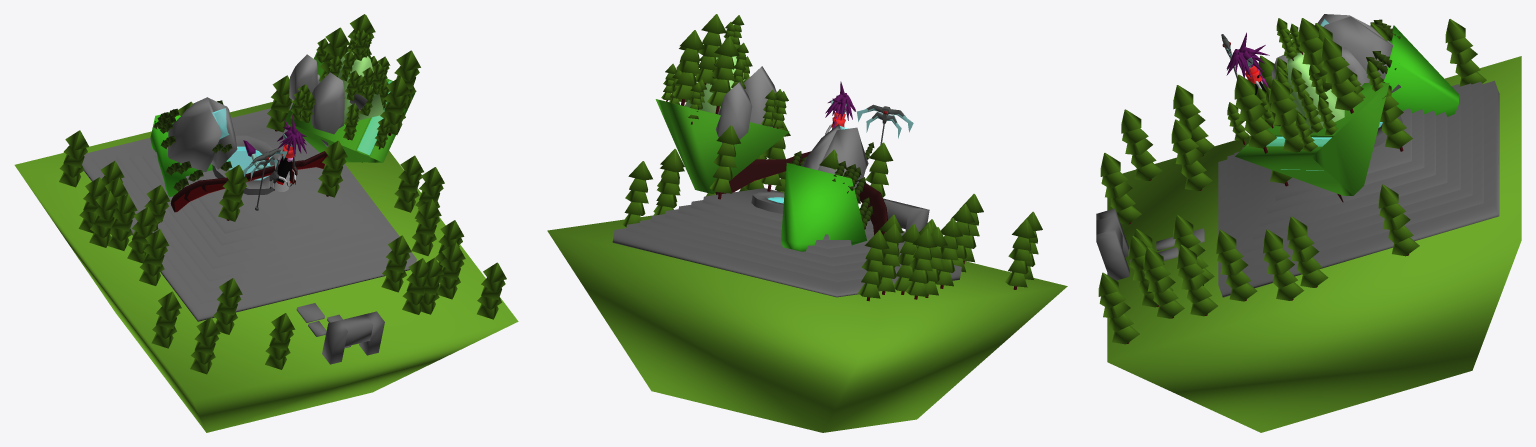
File: nazvhi-title-background.fbx
3 renders of one model, left to right at view 1: azimuth 30°, elevation 25°; view 2: azimuth 150°, elevation 25°; view 3: azimuth 270°, elevation 25°, orthographic. The views are drawn at different scales.
Parts seen in each view (by area): view 1: mesh341, mesh354, mesh347, mesh351, mesh349, mesh348, mesh350, mesh352, mesh12, mesh139, mesh353, mesh342 (+10 smaller); view 2: mesh341, mesh09, mesh139, mesh347, mesh348, mesh351, mesh349, mesh350, mesh137, mesh12, mesh352, mesh354 (+8 smaller); view 3: mesh341, mesh139, mesh347, mesh348, mesh349, mesh351, mesh09, mesh350, mesh352, mesh353, mesh13, mesh342 (+3 smaller).
Part boxes in pixels (left/top/right/bottom): mesh341: left=14, top=100, right=518, bottom=432; mesh354: left=186, top=126, right=342, bottom=233; mesh347: left=82, top=103, right=416, bottom=321; mesh351: left=116, top=116, right=385, bottom=281; mesh349: left=104, top=109, right=393, bottom=292; mesh348: left=92, top=106, right=397, bottom=303; mesh350: left=129, top=120, right=374, bottom=268; mesh352: left=142, top=122, right=363, bottom=257; mesh12: left=168, top=97, right=221, bottom=172; mesh139: left=285, top=51, right=415, bottom=162; mesh353: left=154, top=124, right=352, bottom=245; mesh342: left=322, top=311, right=384, bottom=364; mesh341: left=547, top=215, right=1067, bottom=432; mesh09: left=781, top=163, right=866, bottom=251; mesh139: left=655, top=99, right=789, bottom=193; mesh347: left=612, top=228, right=961, bottom=297; mesh348: left=626, top=223, right=940, bottom=281; mesh351: left=651, top=214, right=917, bottom=266; mesh349: left=639, top=219, right=899, bottom=273; mesh350: left=665, top=209, right=905, bottom=257; mesh137: left=715, top=82, right=752, bottom=143; mesh12: left=818, top=127, right=868, bottom=201; mesh352: left=678, top=205, right=905, bottom=248; mesh354: left=703, top=188, right=872, bottom=226; mesh341: left=1107, top=56, right=1521, bottom=432; mesh139: left=1235, top=83, right=1389, bottom=195; mesh347: left=1218, top=80, right=1499, bottom=297; mesh348: left=1227, top=82, right=1483, bottom=273; mesh349: left=1234, top=83, right=1472, bottom=262; mesh351: left=1242, top=84, right=1460, bottom=253; mesh09: left=1383, top=25, right=1458, bottom=116; mesh350: left=1251, top=112, right=1447, bottom=239; mesh352: left=1258, top=110, right=1435, bottom=226; mesh353: left=1266, top=109, right=1424, bottom=213; mesh13: left=1323, top=16, right=1400, bottom=92; mesh342: left=1096, top=208, right=1129, bottom=280.
Bounding box in the file's own units: 670 × 710 × 651.
